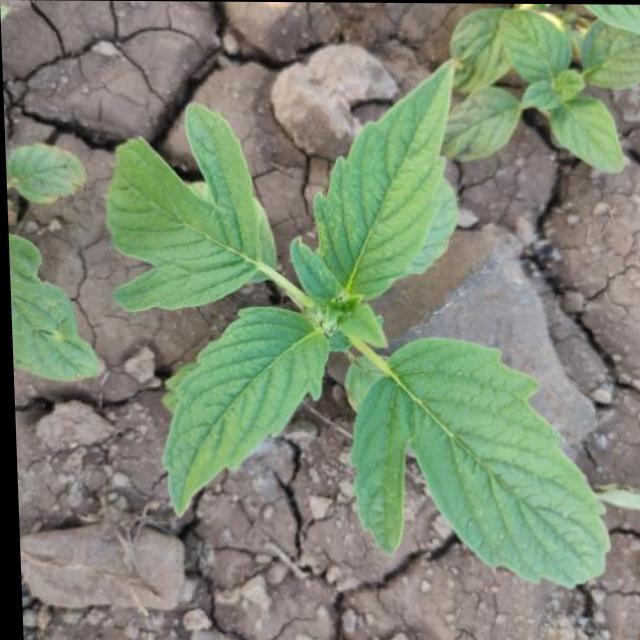crop: (87, 57, 620, 605)
